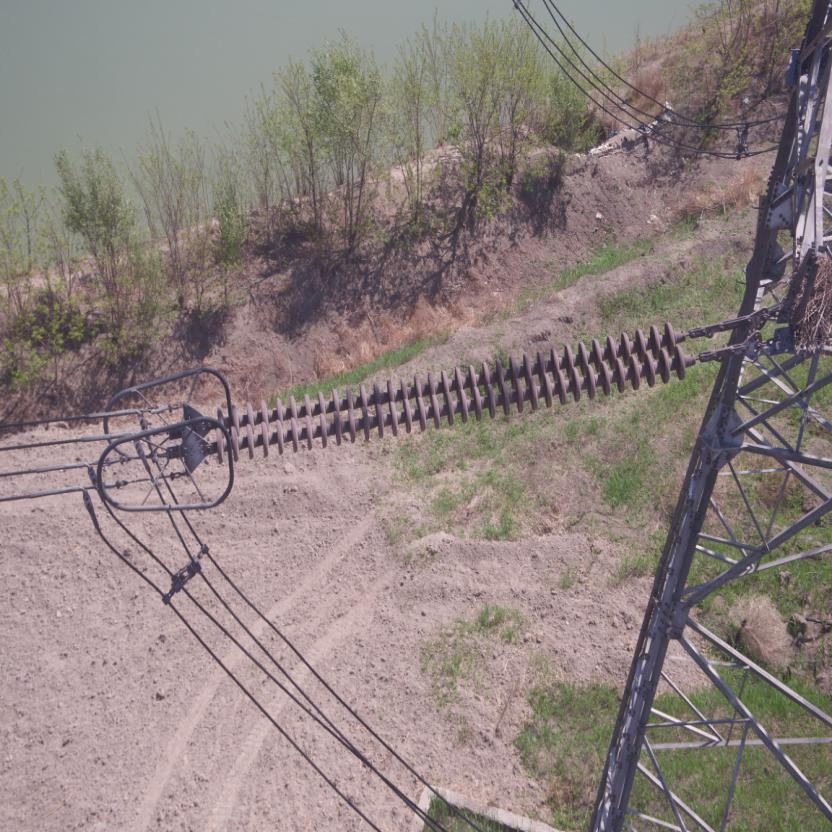insulator: (198, 311, 740, 465)
